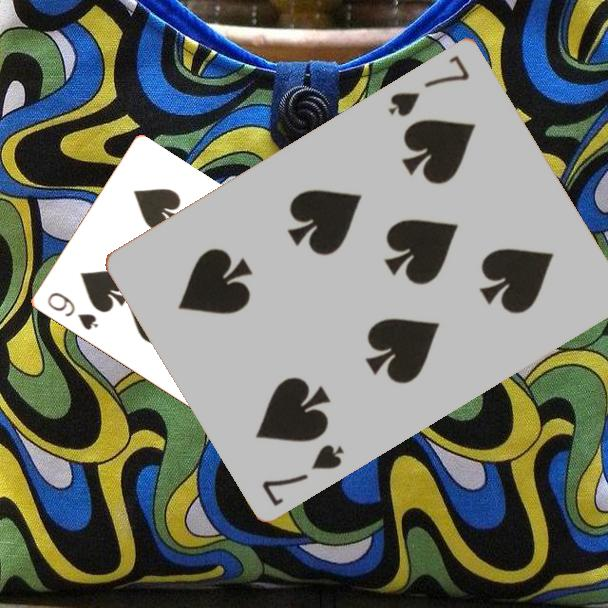s07: (258, 440, 348, 509), (385, 51, 473, 120)
s09: (43, 289, 101, 333)
